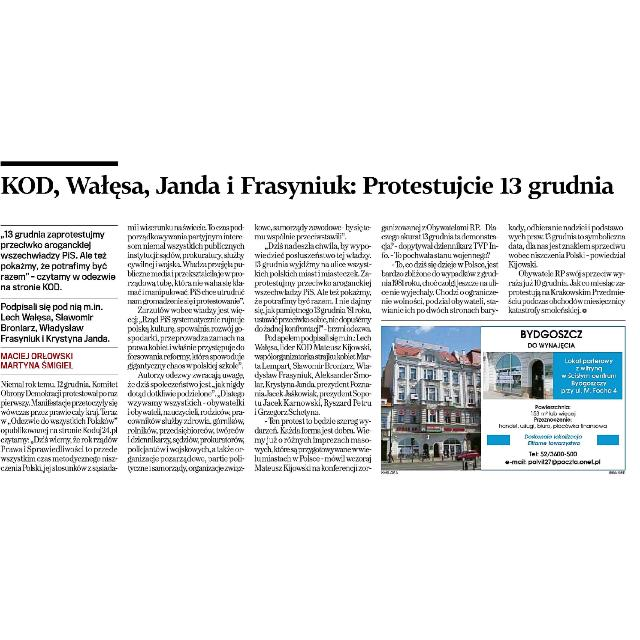author: (0, 351, 78, 371)
body: (126, 222, 250, 476), (253, 222, 375, 474), (0, 378, 121, 476), (378, 221, 500, 315), (505, 222, 627, 316)
lead: (0, 227, 120, 346)
title: (1, 170, 624, 200)
